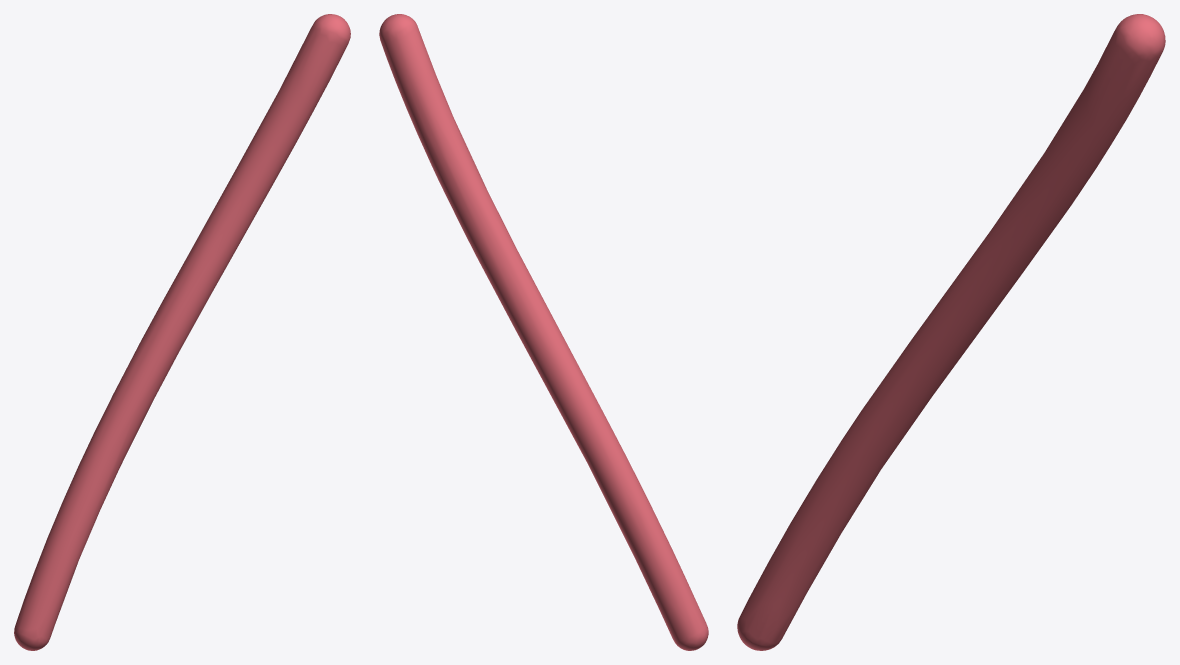
File: fma23126_fj2262.glb
3 views of the same model, side by side, from view 1: azimuth 30°, elevation 25°; view 2: azimuth 150°, elevation 25°; view 3: azimuth 330°, elevation 25° (orthographic). The views are drawn at different scales.
Visible parts, largest first — view 1: FMA23126_FJ2262; view 2: FMA23126_FJ2262; view 3: FMA23126_FJ2262.
Boxes of the visible parts, x1,y1,x2,y2 form: FMA23126_FJ2262: (14, 14, 350, 650); FMA23126_FJ2262: (379, 14, 708, 650); FMA23126_FJ2262: (737, 14, 1165, 650).
Size of the model in its own units: 0.0278 by 0.0455 by 0.00414.
